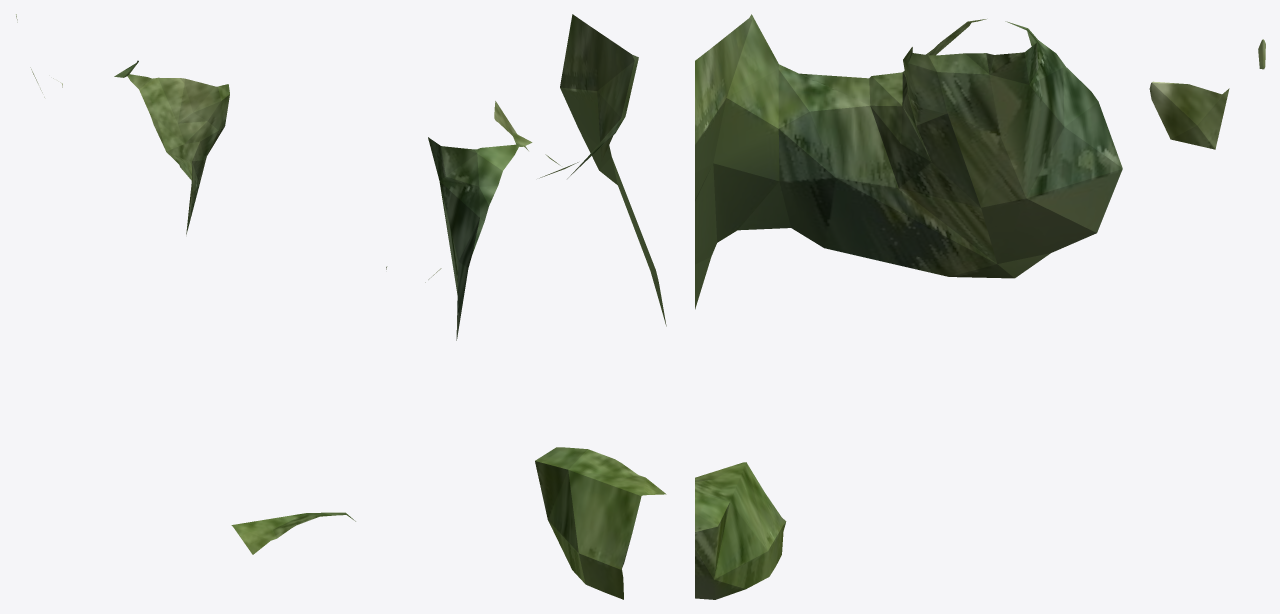
The picture shows the model from 3 angles, left to right: view 1: azimuth 30°, elevation 25°; view 2: azimuth 150°, elevation 25°; view 3: azimuth 270°, elevation 25°; orthographic projection. The views are drawn at different scales.
Bounding box in the file's own units: 0.7151 × 2.95 × 2.82.
Materials: 1 (1 with a texture image).
